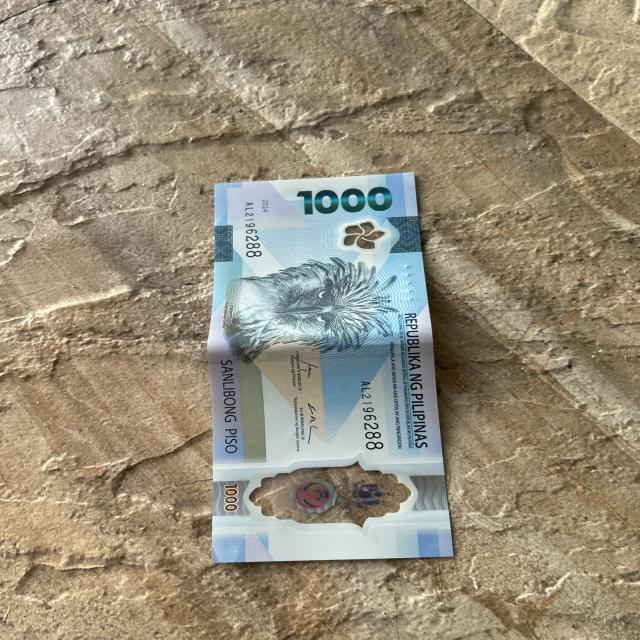clear_window: (245, 462, 420, 524)
eagle: (236, 267, 385, 352)
sampaguita: (341, 220, 388, 248)
